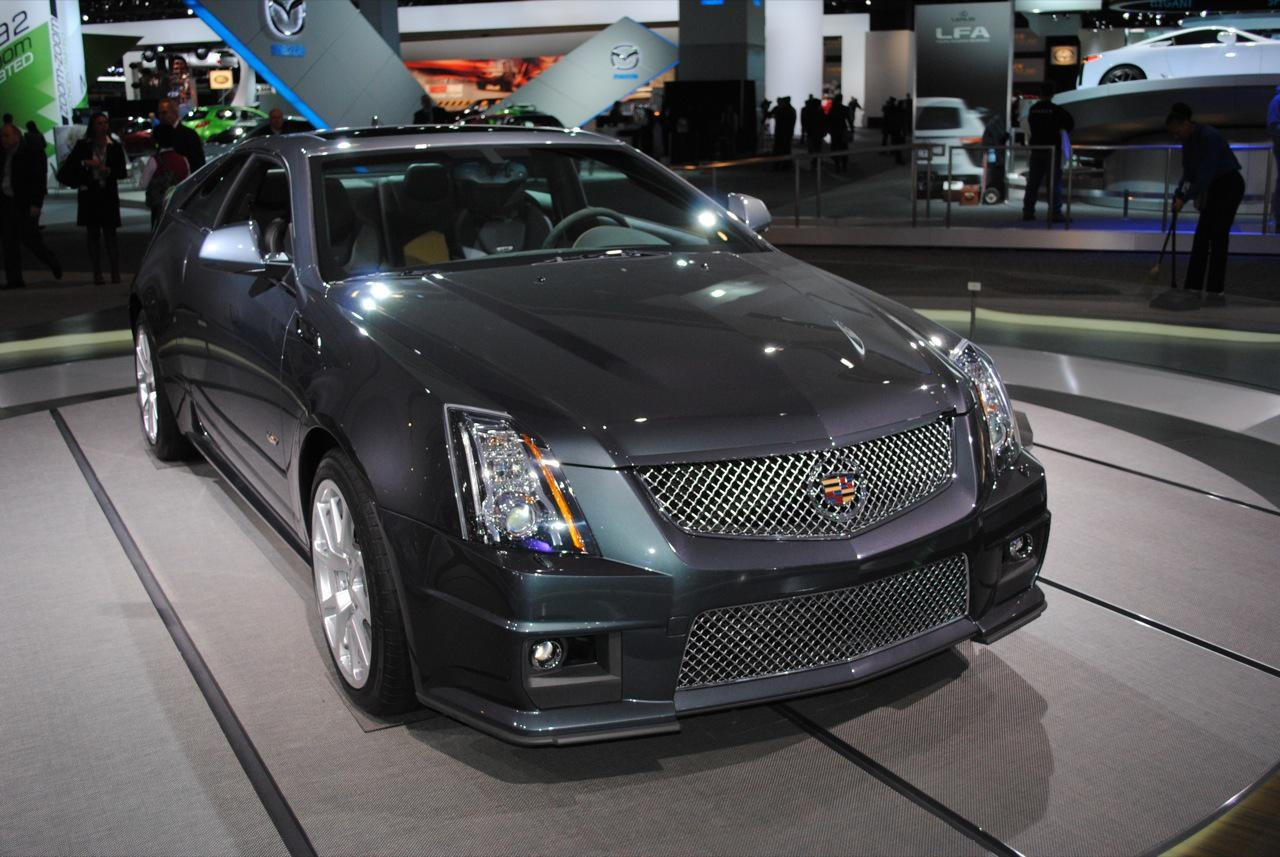Car: (107, 84, 1116, 781), (1051, 8, 1280, 109)
